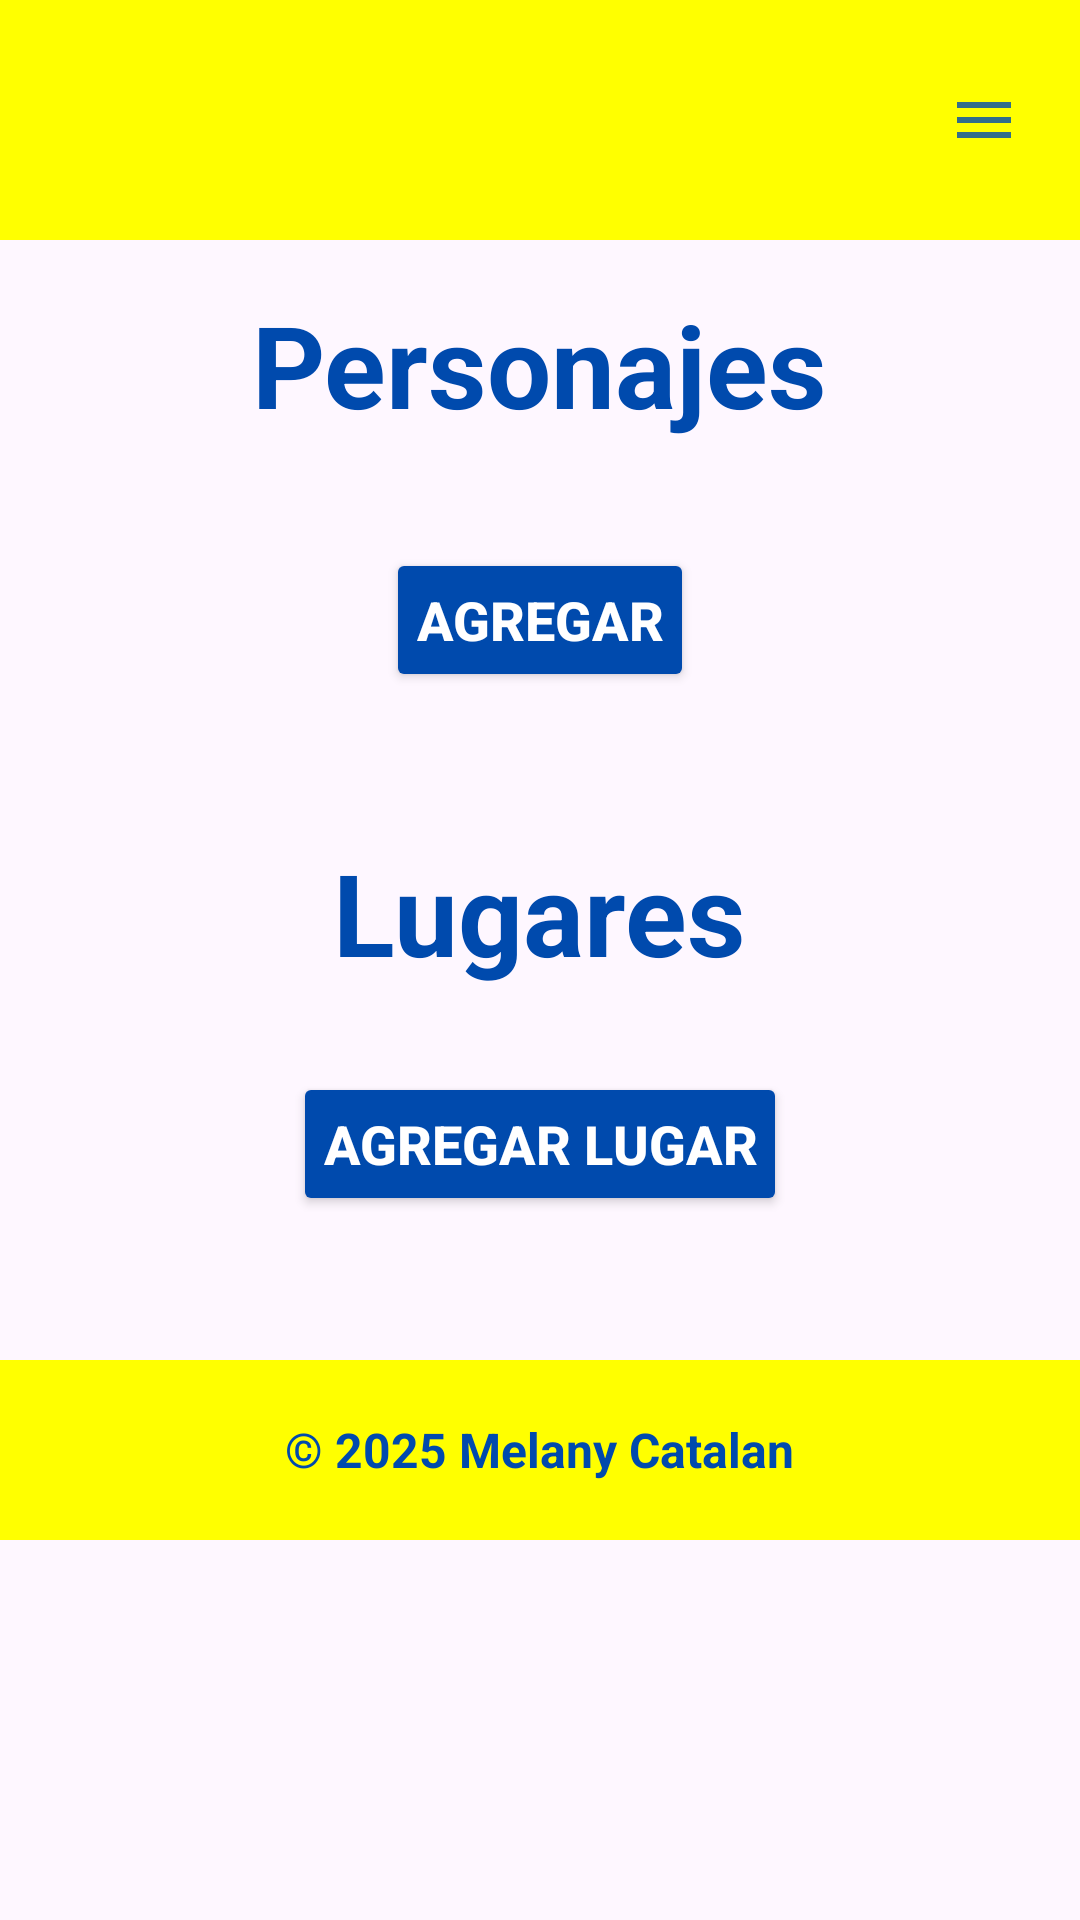

Icon bounding boxes for this 1080 × 1920 phone screenshot, format bbox=(x1, y1, x2, y2):
vector menu: bbox=(957, 102, 1011, 138)
